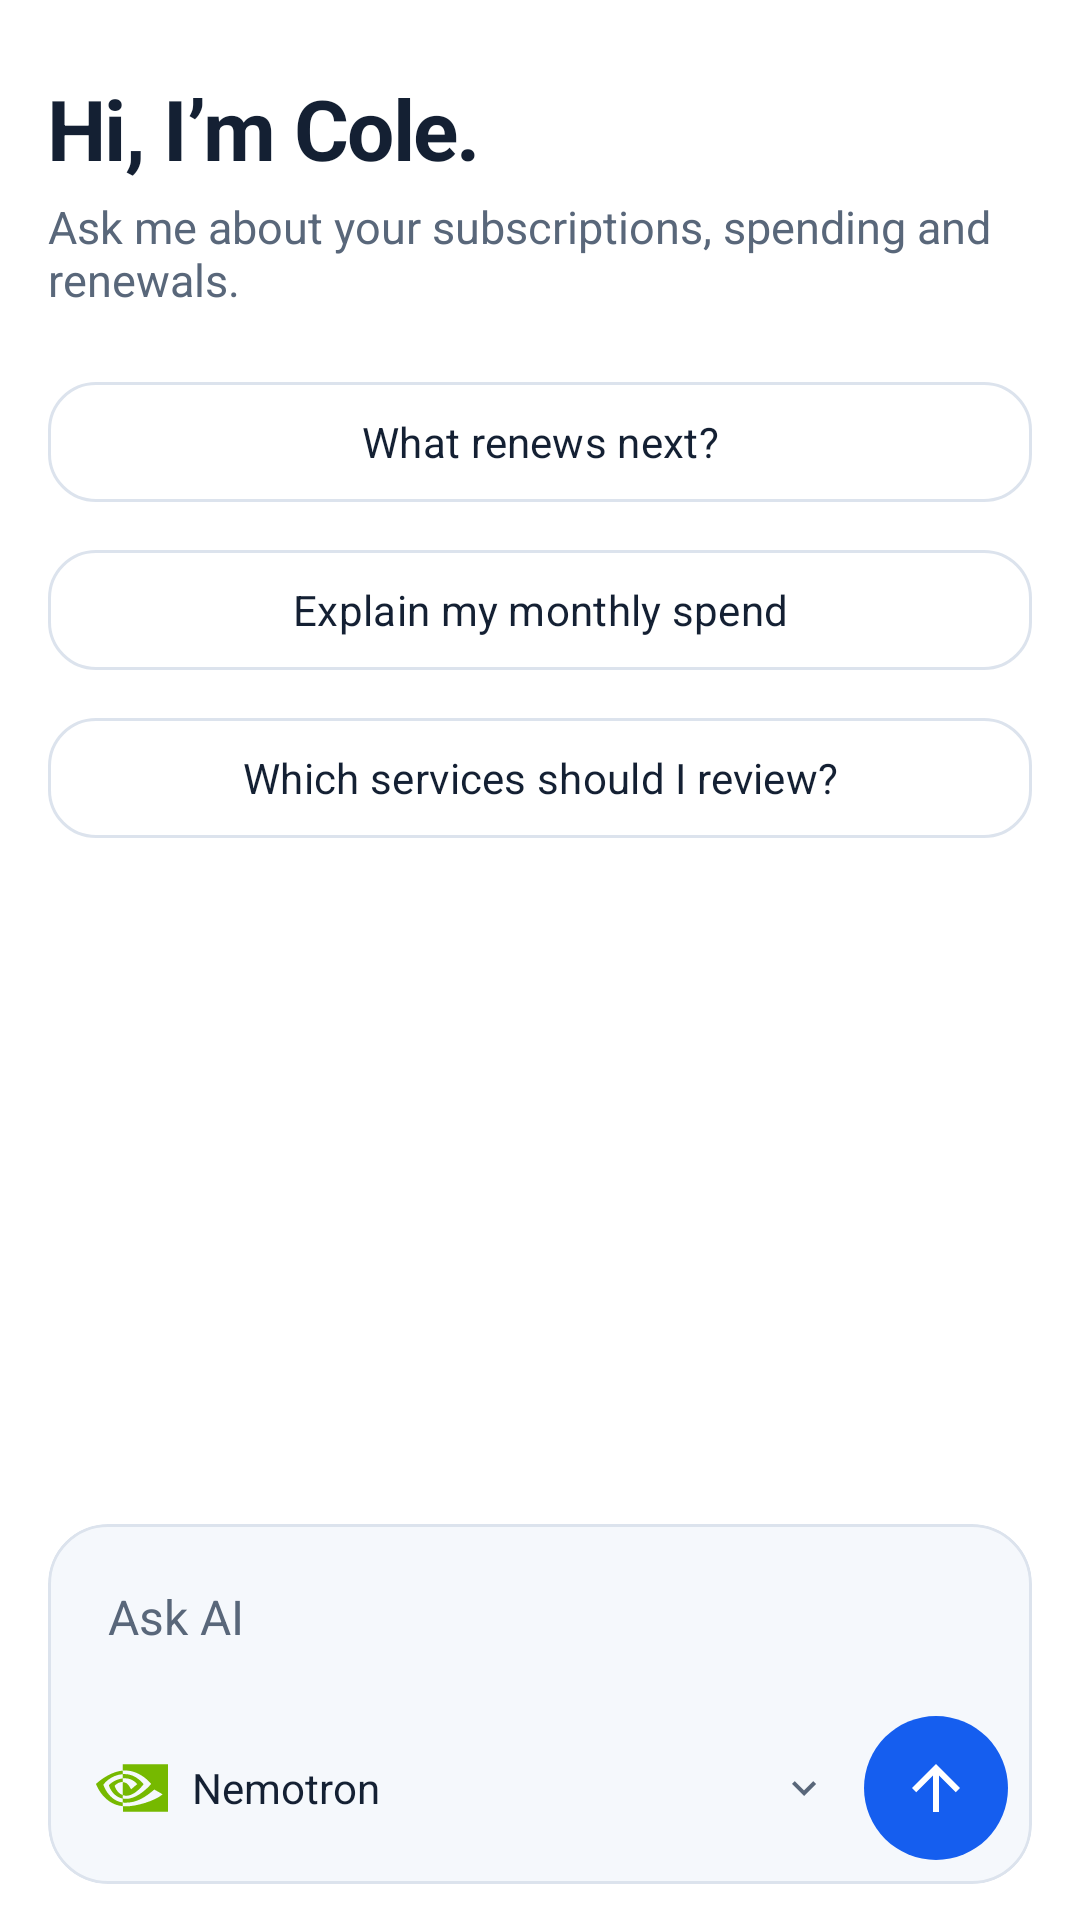

Screen size 1080 × 1920. Icon name, then its center in pixels as [x,y]:
model dropdown: [804,1788]
Send: [936,1788]
